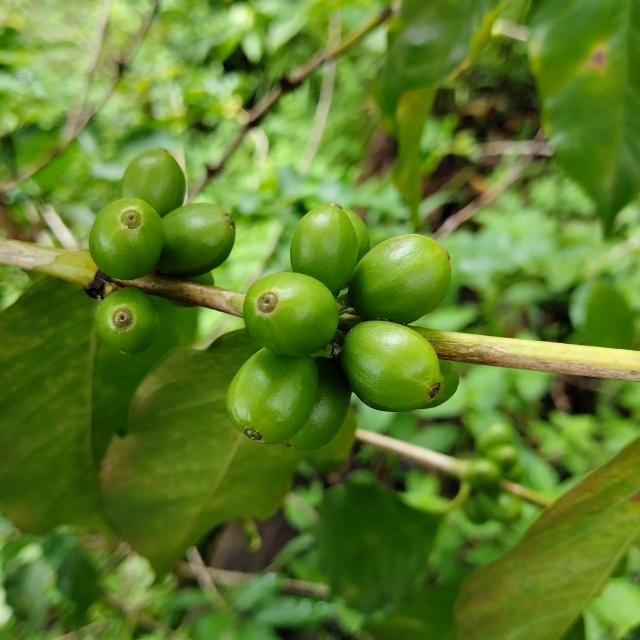green: (349, 234, 452, 324), (340, 321, 441, 412), (225, 348, 318, 445), (243, 272, 339, 356), (285, 356, 352, 451), (88, 198, 165, 280), (290, 203, 358, 295), (156, 202, 235, 277), (119, 148, 186, 217), (94, 288, 159, 355), (342, 208, 370, 262)
